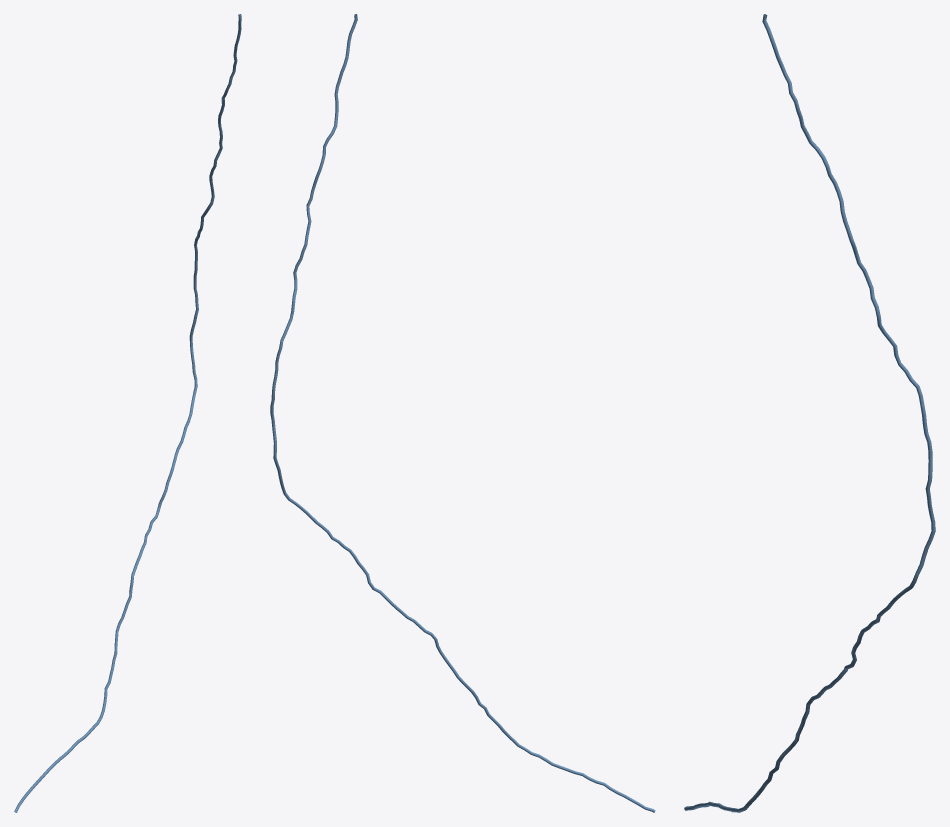
File: sweep117.fbx
3 views of the same model, side by side, from view 1: azimuth 30°, elevation 25°; view 2: azimuth 150°, elevation 25°; view 3: azimuth 270°, elevation 25° (orthographic). The views are drawn at different scales.
Visible parts, largest first — view 1: sweep117; view 2: sweep117; view 3: sweep117.
Boxes of the visible parts, bbox=[...] form: sweep117: bbox=[14, 14, 241, 812]; sweep117: bbox=[270, 14, 655, 812]; sweep117: bbox=[684, 14, 935, 812].
Bounding box in the file's own units: 2.04 × 5.09 × 1.2.
